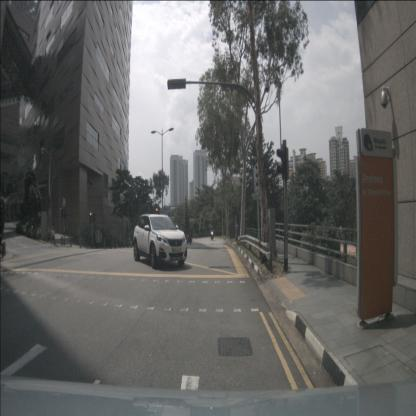vehicle-bicycle: (187, 226, 192, 245)
vehicle-car: (133, 214, 187, 269)
vehicle-motorcycle: (210, 226, 214, 243)
